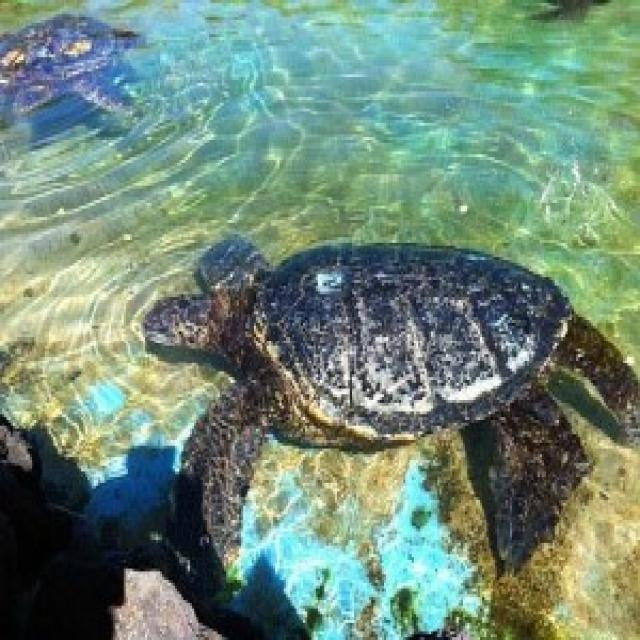Sea turtle: (133, 239, 640, 526), (0, 0, 149, 120)
